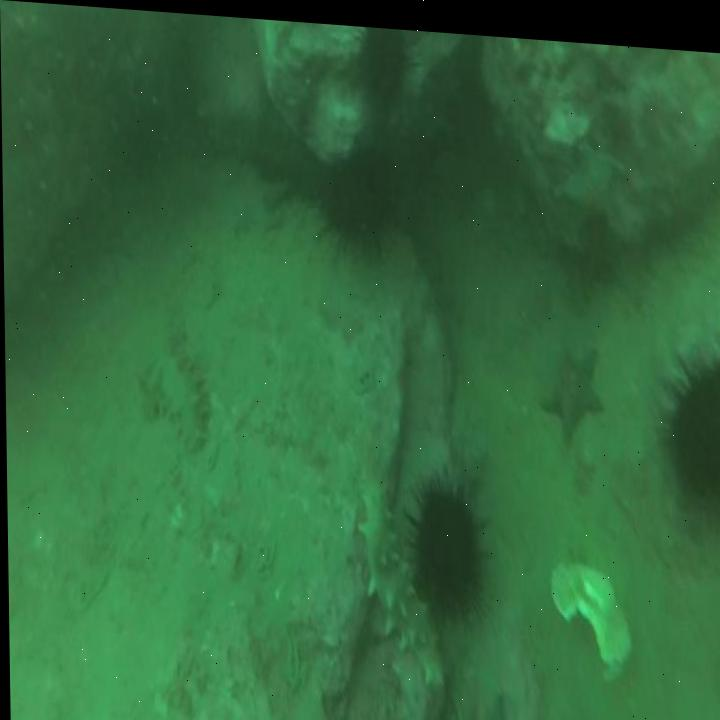echinus: (411, 479, 480, 609), (668, 348, 720, 495), (320, 150, 387, 241), (359, 26, 408, 95)
holothurian: (354, 475, 441, 681), (146, 346, 209, 451)
starfish: (540, 333, 602, 428)
